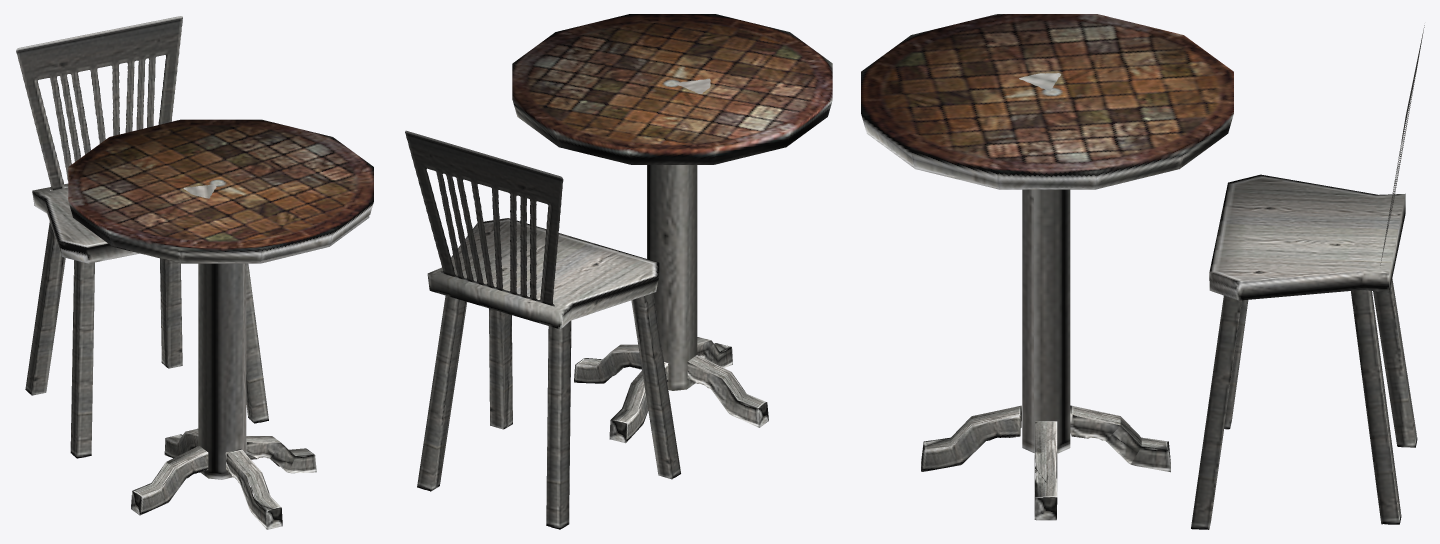
Rendered from Table_Chair.FBX.
3 views of the same model, side by side, from view 1: azimuth 30°, elevation 25°; view 2: azimuth 150°, elevation 25°; view 3: azimuth 270°, elevation 25° (orthographic). The views are drawn at different scales.
Parts seen in each view (by area): view 1: table004, Object018; view 2: table004, Object018; view 3: table004, Object018.
Part boxes in pixels (x1=…): table004: x1=68, y1=119, x2=373, y2=529; Object018: x1=16, y1=16, x2=268, y2=458; table004: x1=512, y1=14, x2=832, y2=443; Object018: x1=405, y1=130, x2=680, y2=529; table004: x1=861, y1=14, x2=1233, y2=520; Object018: x1=1191, y1=25, x2=1424, y2=529.
Bounding box in the file's own units: 24.09 × 29.76 × 36.51.
